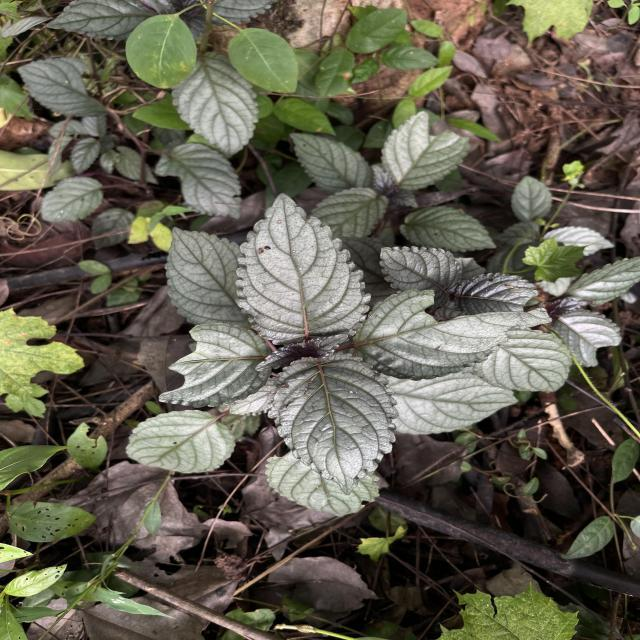Hemigraphis colorata: (232, 190, 374, 350), (263, 347, 403, 497), (350, 287, 554, 382), (156, 322, 274, 409), (124, 408, 238, 475), (377, 244, 465, 307)
